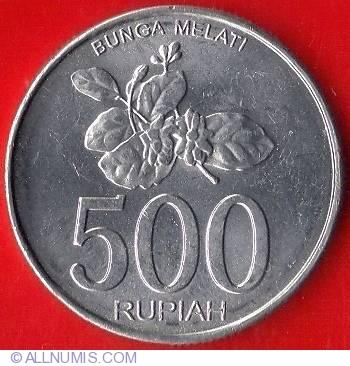coin_500_e2003: (4, 4, 344, 344)
